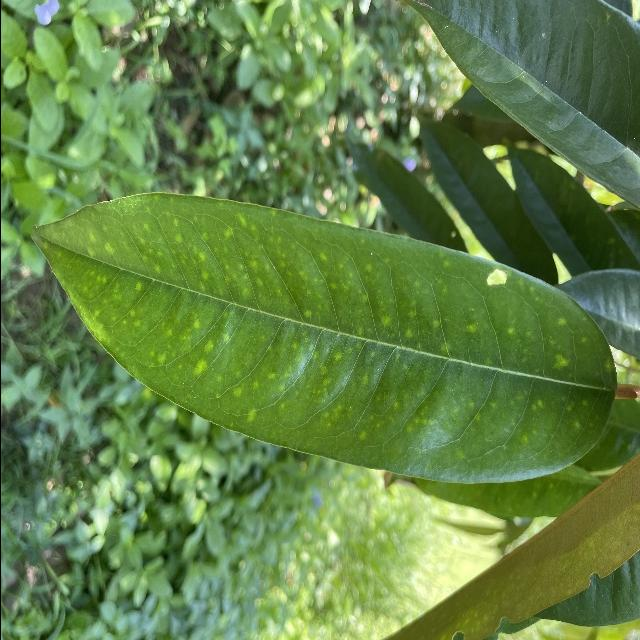Leaf Spot: (31, 187, 631, 489)
